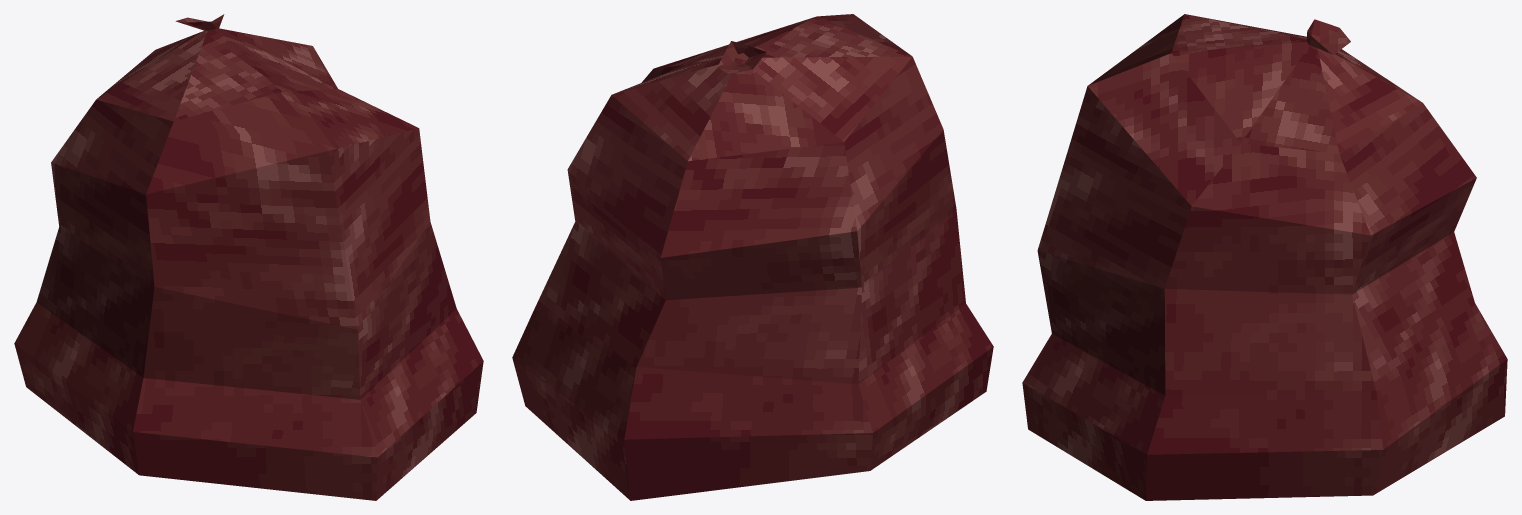
The model's file is trashbag_1_red.glb.
3 views of the same model, side by side, from view 1: azimuth 30°, elevation 25°; view 2: azimuth 150°, elevation 25°; view 3: azimuth 270°, elevation 25° (orthographic). The views are drawn at different scales.
Visible parts, largest first — view 1: trashbag_1_red; view 2: trashbag_1_red; view 3: trashbag_1_red.
Part boxes in pixels (x1,y1,x2,y2): trashbag_1_red: (14, 14, 483, 500); trashbag_1_red: (512, 14, 993, 500); trashbag_1_red: (1022, 14, 1507, 500).
Bounding box in the file's own units: 0.7709 × 0.8094 × 0.9171.
Materials: 1 (1 with a texture image).
